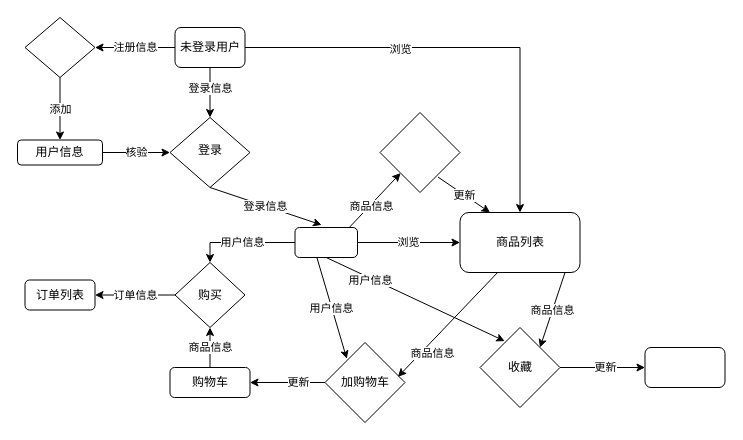
Some shapes in this 743 by 440 pixel diagram are drawn without their labels. The shapes that lost their labels are listed below. From the top down, each one's box as (x1, y1, x2, y2) in pixels, then its label:
(24, 16, 95, 78): 注册
(379, 112, 460, 192): 发布商品
(294, 226, 358, 258): 已登录用户
(644, 346, 725, 388): 收藏列表
